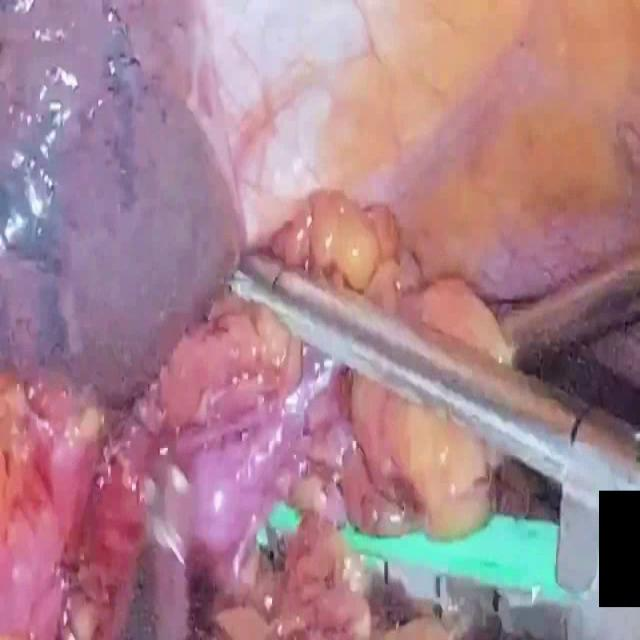surgical-area: (0, 0, 640, 639)
surgical-tool: (226, 250, 640, 639)
